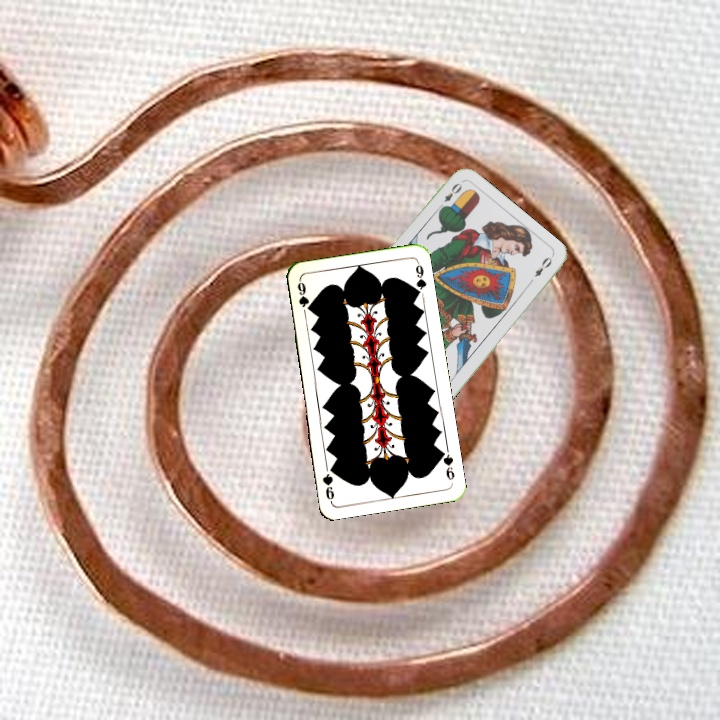EO: (434, 179, 464, 212)
G9: (436, 446, 457, 483), (293, 277, 311, 317)
